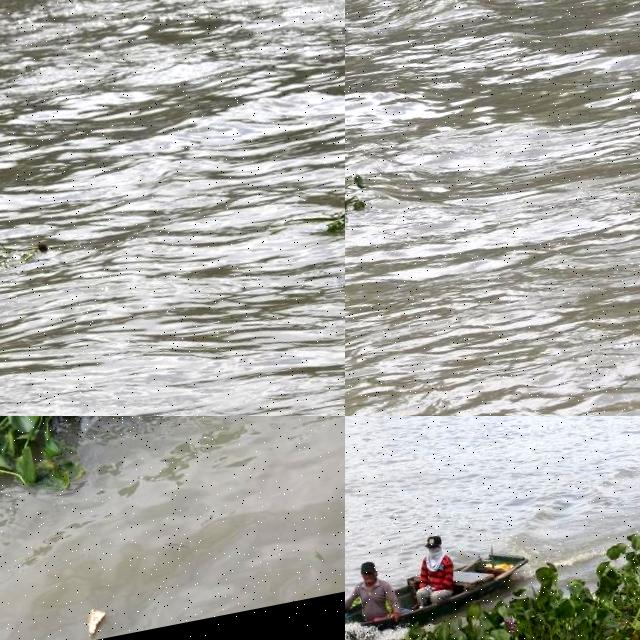water-hyacinth: (1, 417, 346, 631), (346, 522, 640, 640), (1, 223, 60, 283), (346, 165, 395, 234), (297, 187, 346, 245)
